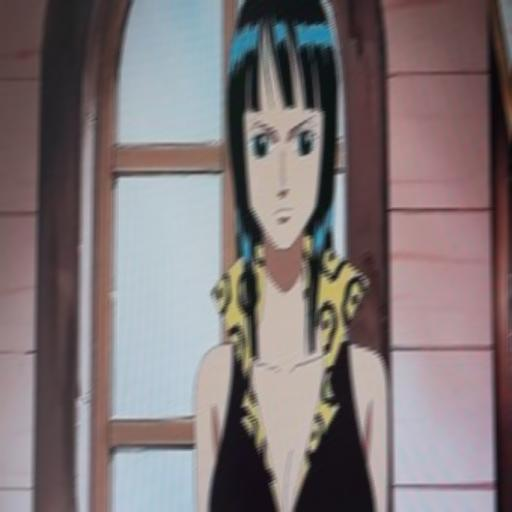NicoRobin: (213, 0, 348, 285)
